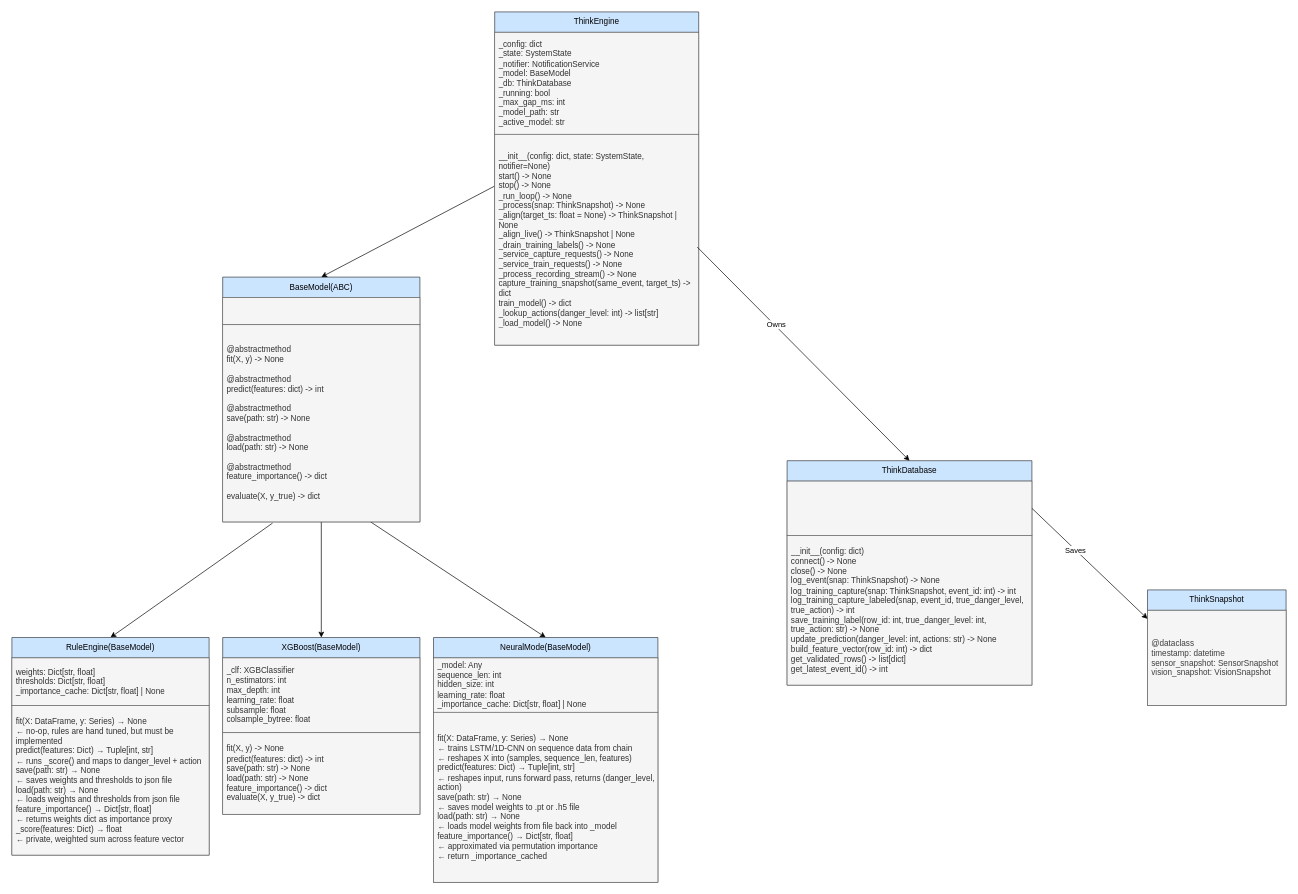
The diagram is 1298 pixels wide and 894 high, and some of its shapes have lost their labels. The centre of each missing label's shape, as x and y in pixels:
"_config: dict _conn: Connection last_row_id: int" goes at pixel 909 508.
"_config: dict _model: Any" goes at pixel 321 311.
